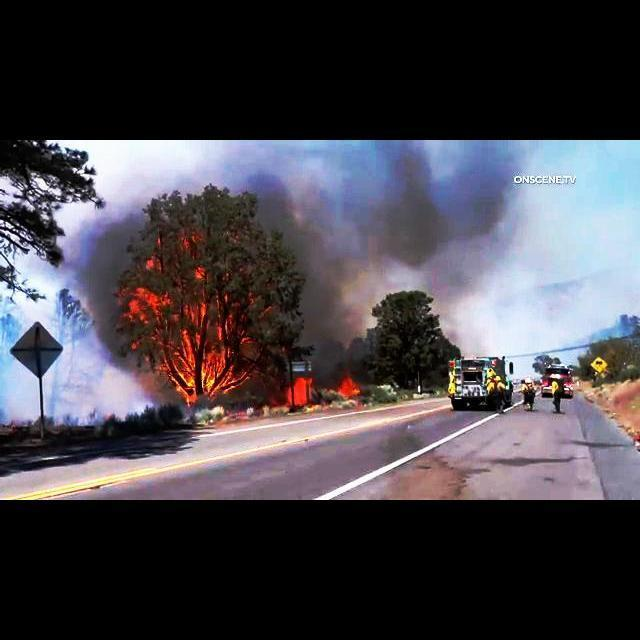Fire: (126, 230, 270, 410), (278, 374, 362, 422)
Smoke: (284, 140, 468, 272)
